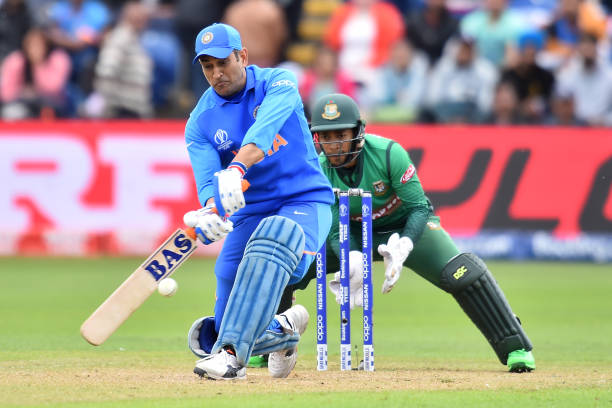bottom left: (68, 320, 88, 340)
bottom right: (82, 338, 107, 363)
top left: (175, 225, 188, 238)
top right: (188, 238, 204, 254)
